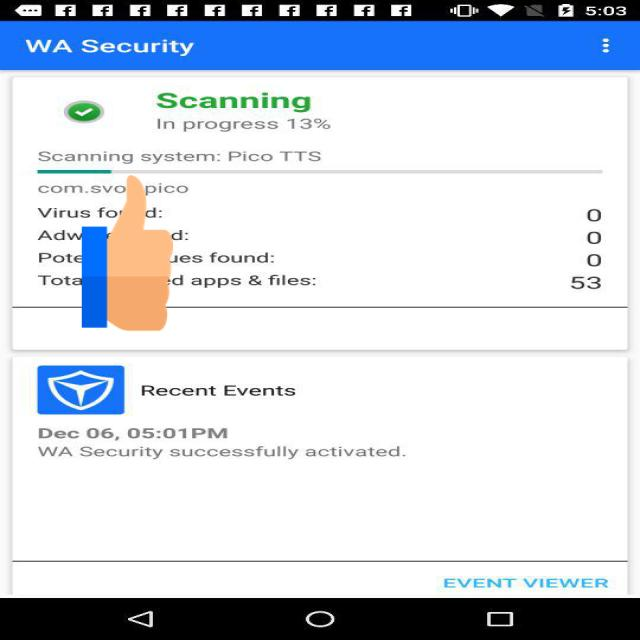privacy zuckering: (82, 171, 173, 335)
